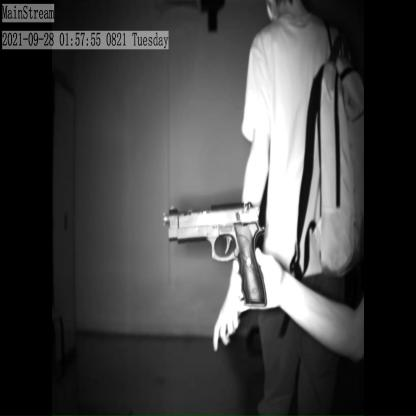weapon: (167, 197, 268, 312)
